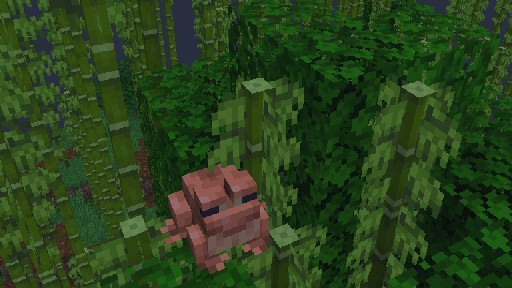frog: (159, 159, 272, 274)
